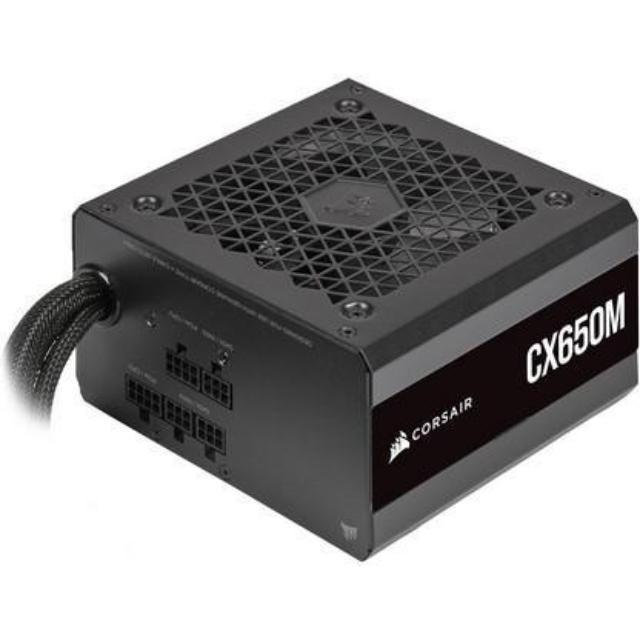PSU: (52, 61, 640, 574)
